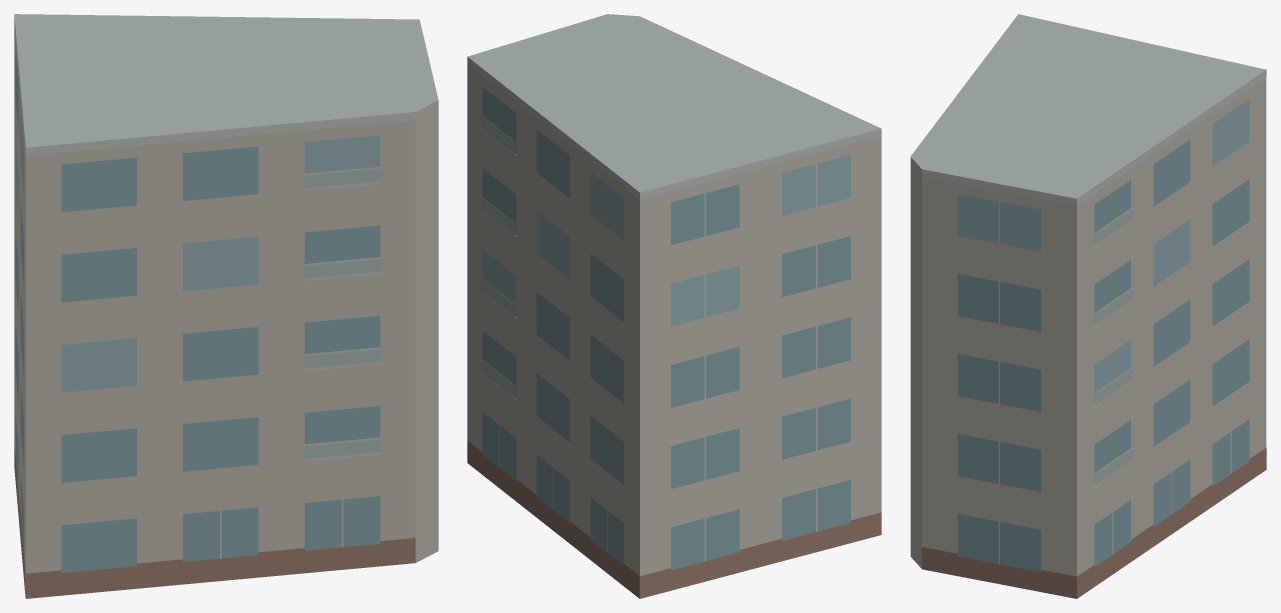
Rendered from survey-upis-32544420.glb.
3 views of the same model, side by side, from view 1: azimuth 30°, elevation 25°; view 2: azimuth 150°, elevation 25°; view 3: azimuth 270°, elevation 25° (orthographic). The views are drawn at different scales.
Visible parts, largest first — view 1: survey-upis-32544420.tmp; view 2: survey-upis-32544420.tmp; view 3: survey-upis-32544420.tmp.
Part boxes in pixels (box(x1,y1,x2,y2)): survey-upis-32544420.tmp: box(14, 14, 438, 598); survey-upis-32544420.tmp: box(467, 14, 881, 598); survey-upis-32544420.tmp: box(910, 14, 1266, 598).
Bounding box in the file's own units: 13.58 × 13.7 × 11.06.
